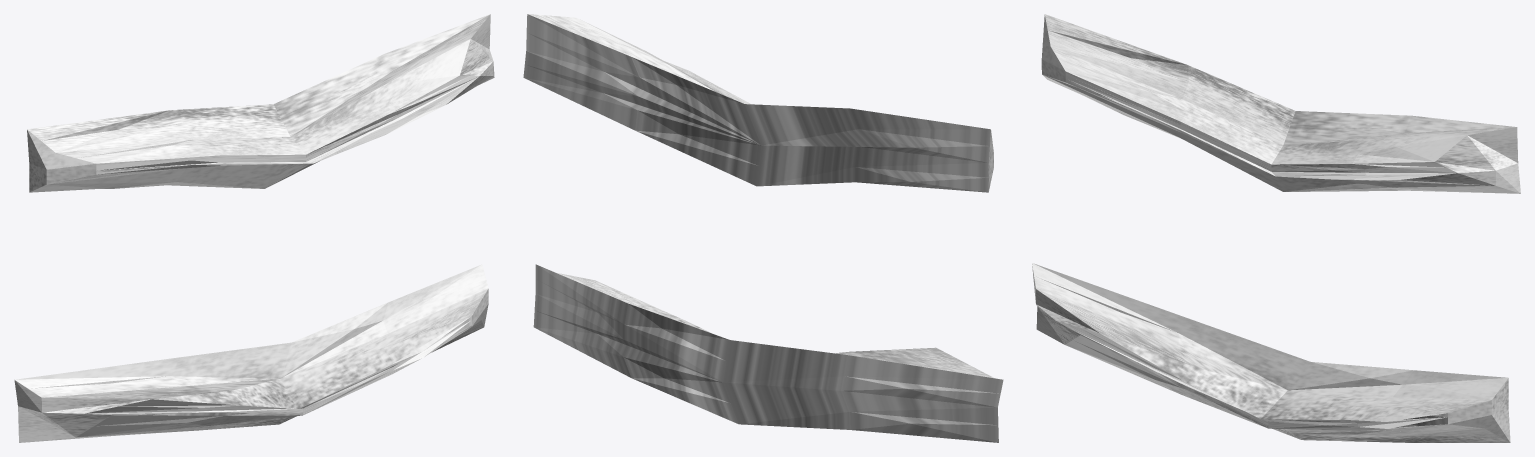
The model's file is snowmounds14x8_wtf.obj.
The picture shows the model from 3 angles, left to right: view 1: azimuth 30°, elevation 25°; view 2: azimuth 150°, elevation 25°; view 3: azimuth 330°, elevation 25°; orthographic projection.
Parts seen in each view (by area): view 1: group4, group3; view 2: group3, group4; view 3: group4, group3.
Part boxes in pixels (x1,y1,x2,y2): group4: (27,14,494,192); group3: (14,264,488,442); group3: (533,264,1003,442); group4: (523,14,993,192); group4: (1041,14,1520,193); group3: (1032,263,1510,442).
Bounding box in the file's own units: 660 × 471 × 92.49.
